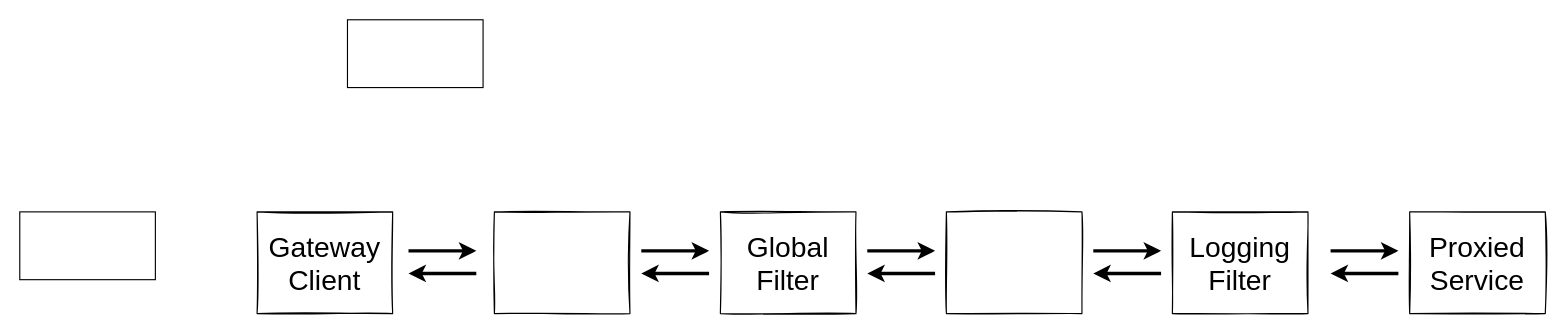
The diagram is 1565 pixels wide and 333 high, and some of its shapes have lost their labels. Each missing label, with the centre of its shape:
"Custom Filter" goes at (1013,262).
"Gateway Handler" goes at (561,262).
